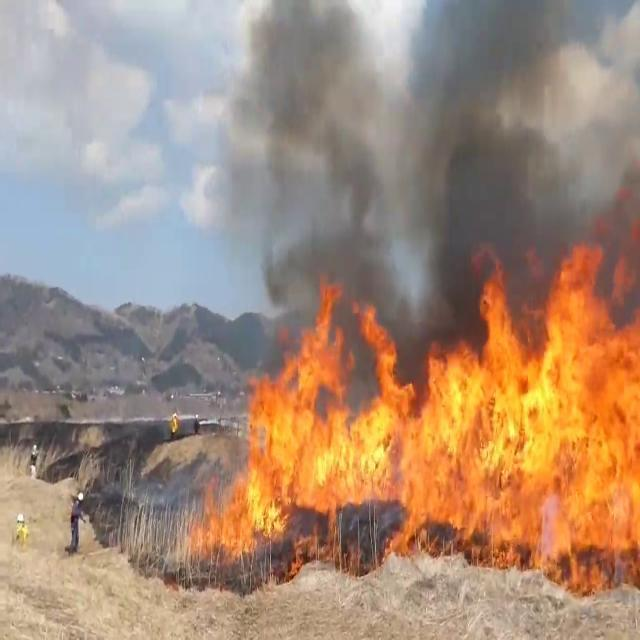Fire: (196, 260, 640, 584)
Smoke: (211, 0, 615, 338)
